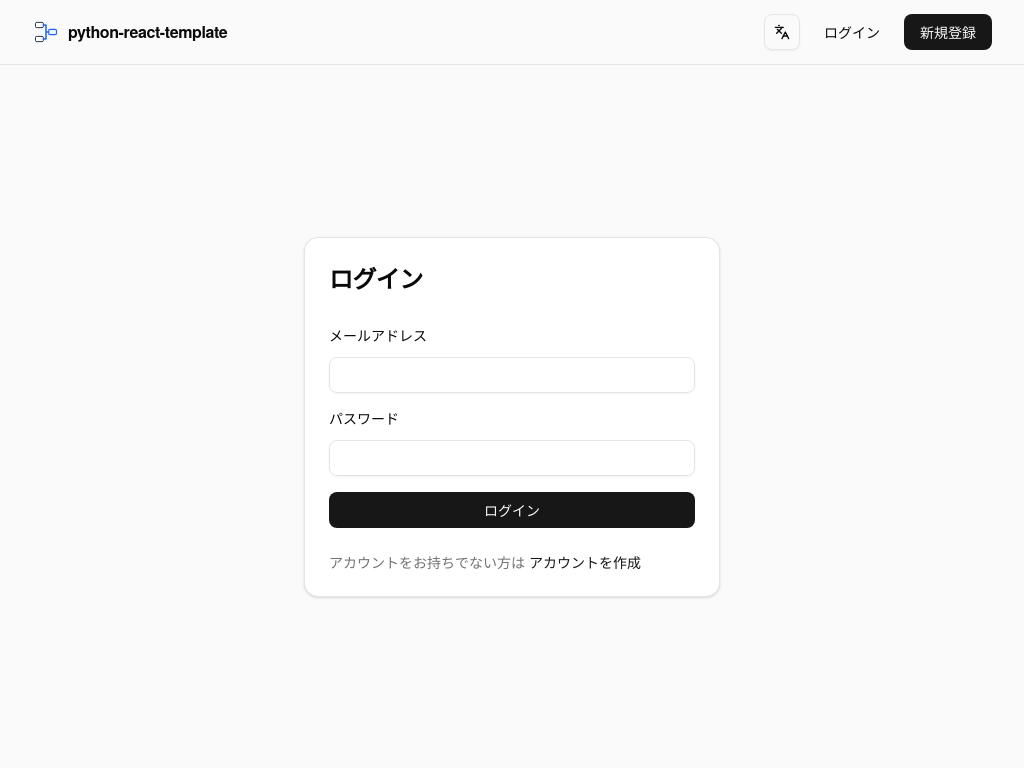
it: login 成功後は正規化済み redirect 先へ遷移し auth cache を同期する
Type "user@example.com" into the field labelled "メールアドレス".
click(512, 375); type("user@example.com")  # box x1=329 y1=357 x2=695 y2=393
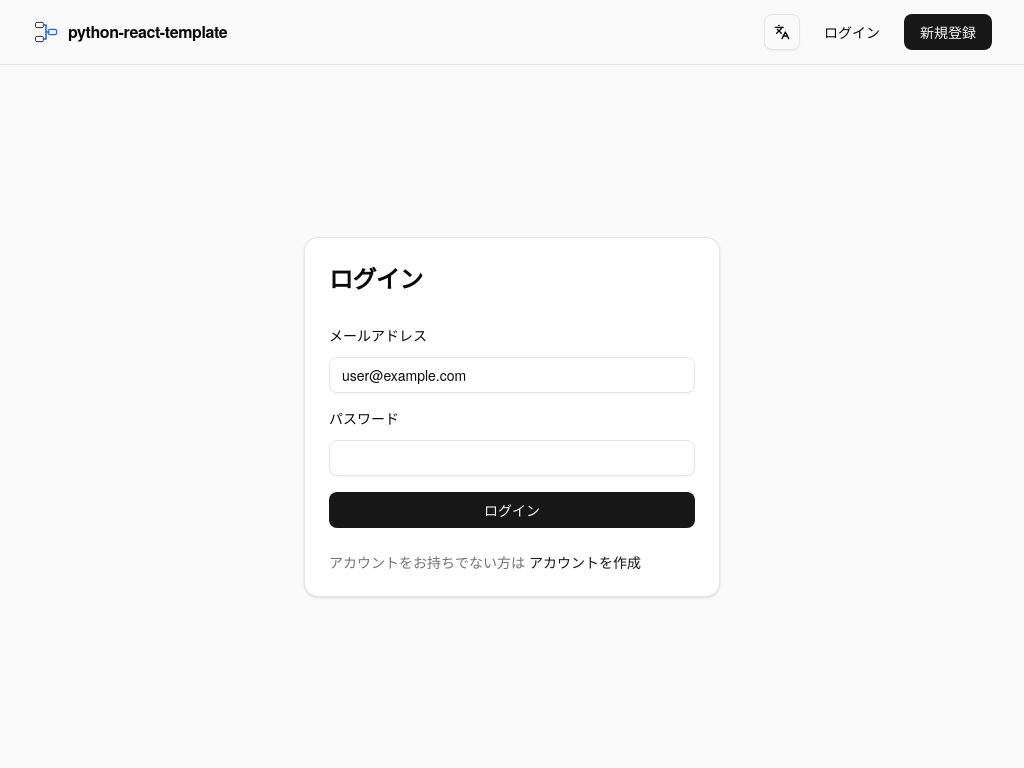
Type "Password123!" into the password field labelled "パスワード".
click(512, 458); type("Password123!")  # box x1=329 y1=440 x2=695 y2=476
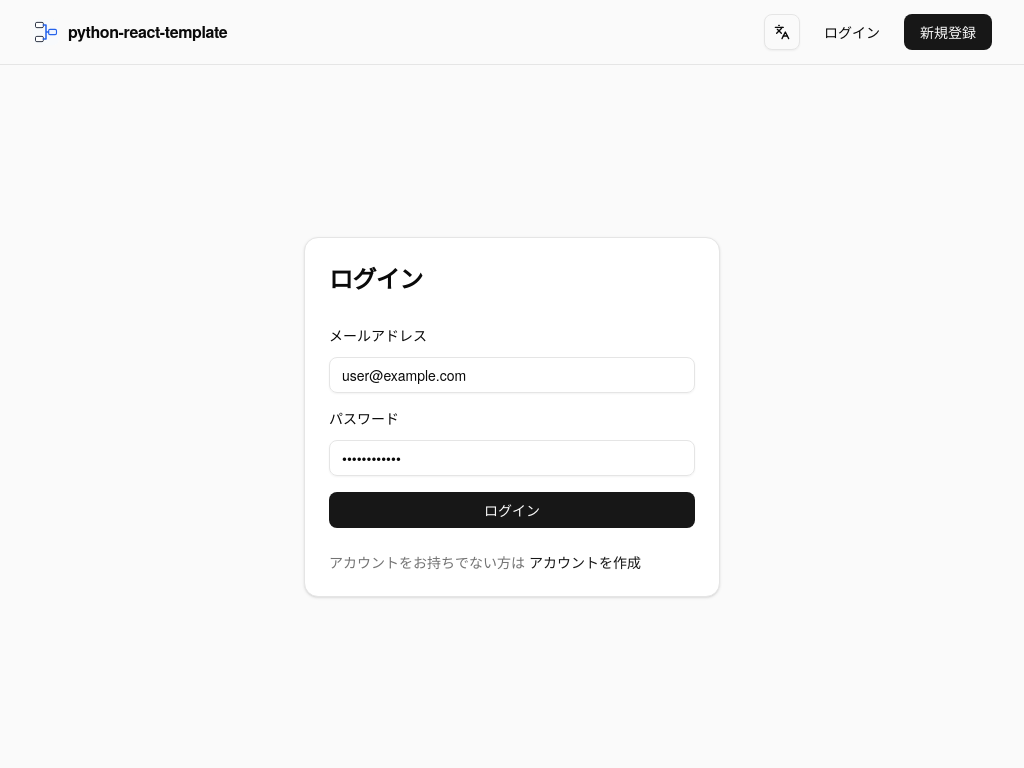
Click the button "ログイン".
click(512, 510)  # box x1=329 y1=492 x2=695 y2=528
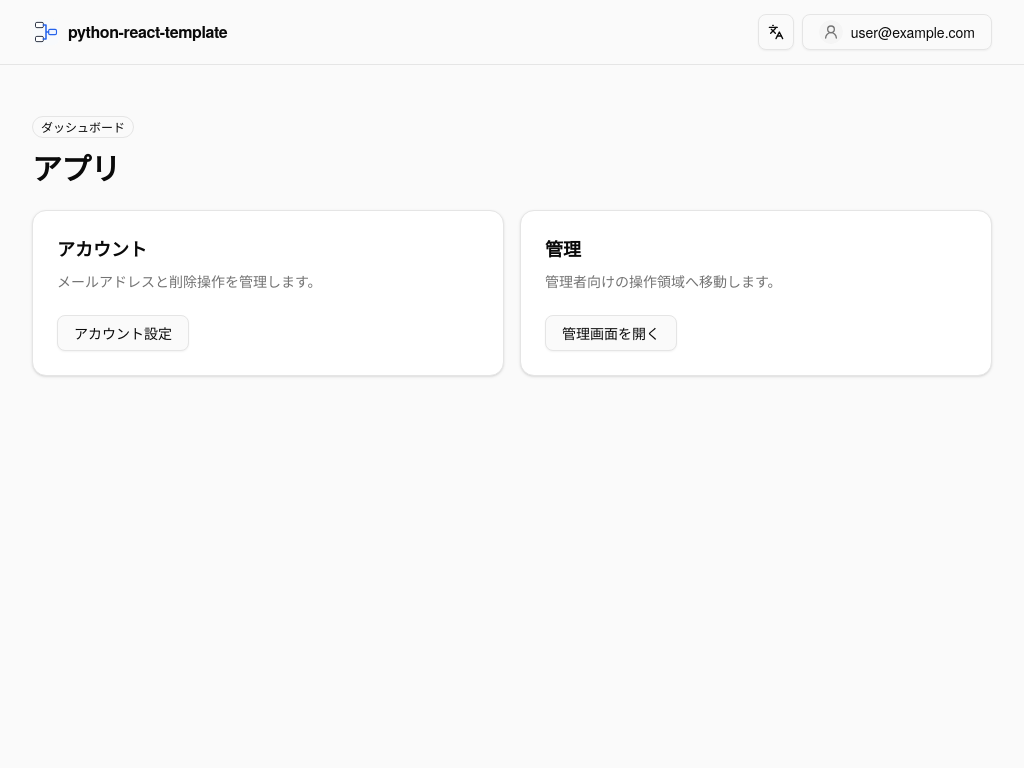
expect the heading "アプリ" is shown: met, box x1=32 y1=146 x2=120 y2=189
